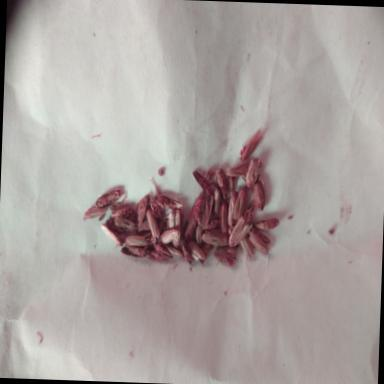pbw: (239, 126, 264, 162), (228, 216, 252, 248), (166, 209, 182, 248), (95, 186, 122, 208), (245, 156, 262, 190), (100, 222, 124, 246), (232, 185, 248, 219), (201, 228, 230, 246), (192, 170, 212, 196), (134, 194, 149, 228), (252, 174, 266, 210), (146, 208, 162, 238), (200, 194, 214, 228), (154, 194, 183, 210), (186, 239, 206, 262), (213, 247, 237, 266), (249, 231, 268, 254), (216, 168, 230, 198), (148, 190, 162, 219), (153, 241, 174, 260), (84, 202, 108, 218), (120, 243, 148, 256), (228, 190, 238, 226), (124, 231, 151, 244), (253, 216, 279, 229), (146, 248, 169, 262), (110, 204, 133, 218), (158, 227, 178, 243), (218, 200, 228, 232), (180, 238, 192, 264), (112, 216, 134, 230), (226, 161, 248, 175), (164, 244, 184, 258), (212, 186, 222, 214), (253, 230, 270, 243), (195, 224, 202, 246), (229, 174, 235, 190)
